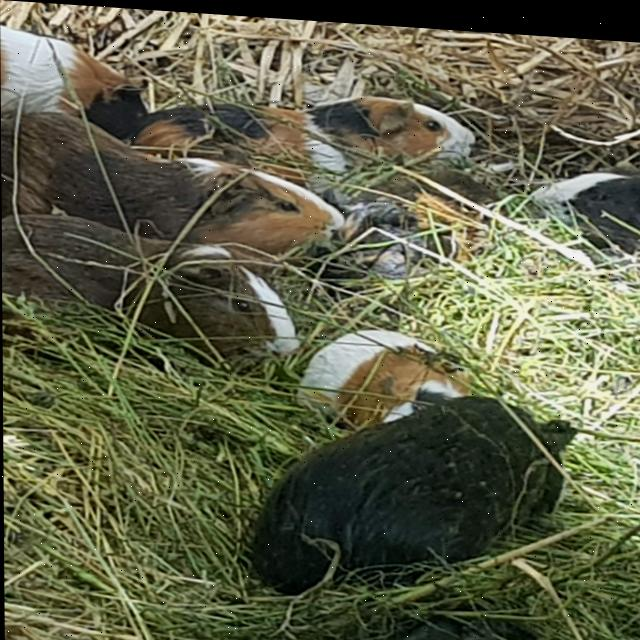guinea pig: (197, 371, 607, 611), (1, 207, 324, 368), (1, 106, 345, 242), (130, 75, 503, 183), (306, 138, 507, 317), (288, 311, 511, 440), (0, 23, 152, 129), (535, 140, 640, 262)
